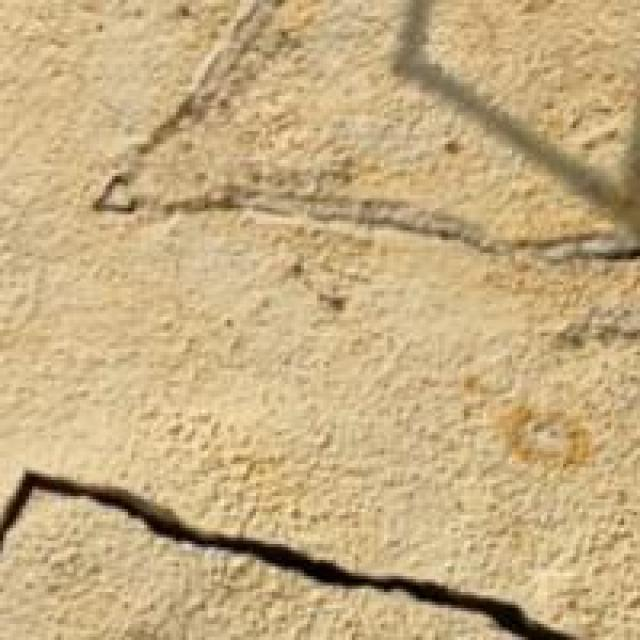Crack: (3, 397, 621, 637)
